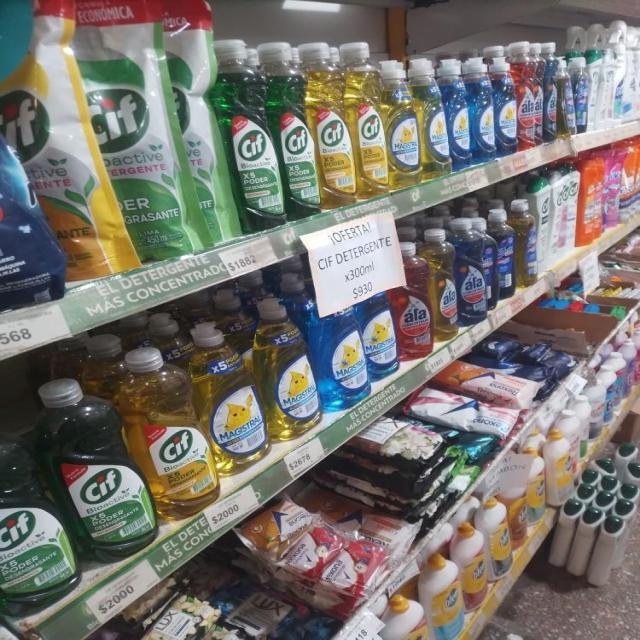ala_conc_amarillo: (431, 226, 457, 342)
ala_conc_rojo: (394, 240, 430, 358)
cif_conc_bot_amarilla: (131, 348, 211, 520), (315, 40, 353, 210), (352, 38, 386, 200)
cif_conc_botella_verde: (51, 377, 150, 563), (0, 423, 73, 618), (233, 37, 282, 232), (280, 39, 317, 220)
magistral_con_amarillo: (198, 320, 265, 476), (262, 296, 318, 442), (386, 58, 420, 188), (420, 56, 448, 178)
magistral_con_azul: (448, 56, 471, 167), (472, 54, 494, 161), (495, 47, 516, 157)
